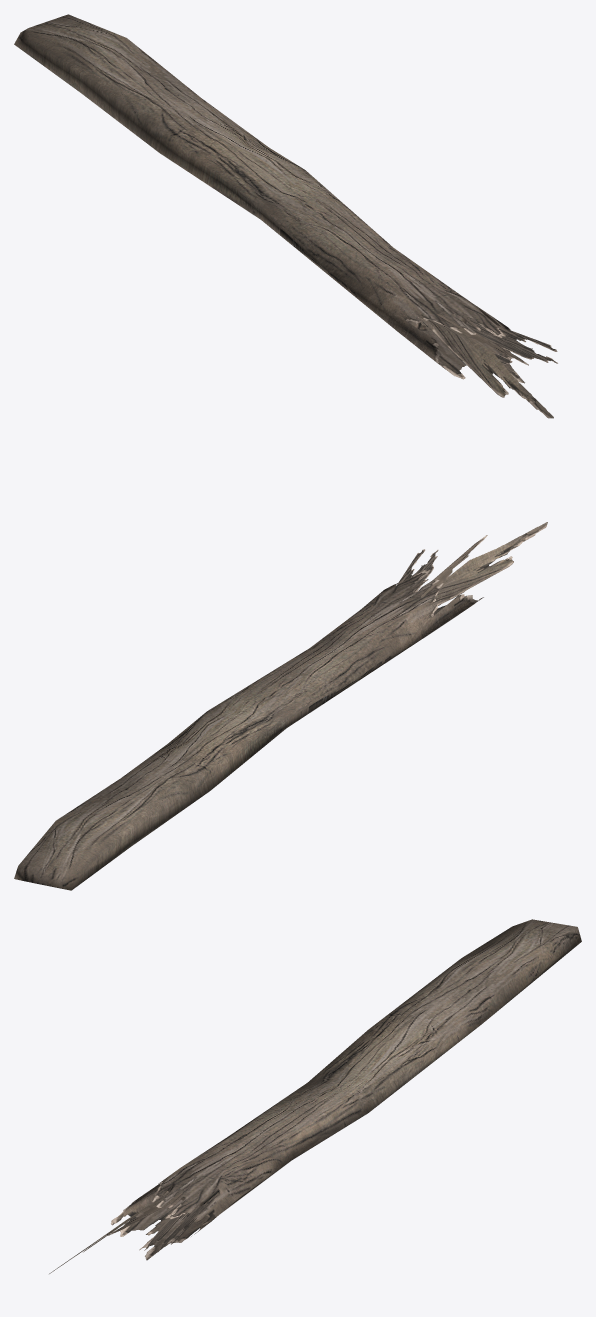
Rendered from WPlank_Splinted_03.fbx.
3 renders of one model, top to bottom at view 1: azimuth 30°, elevation 25°; view 2: azimuth 150°, elevation 25°; view 3: azimuth 330°, elevation 25°, orthographic. The views are drawn at different scales.
Visible parts, largest first — view 1: WPlank_splinted_03; view 2: WPlank_splinted_03; view 3: WPlank_splinted_03.
Boxes of the visible parts, <box> form: WPlank_splinted_03: <box>14,14,557,418</box>; WPlank_splinted_03: <box>14,522,547,890</box>; WPlank_splinted_03: <box>49,919,581,1273</box>.
Bounding box in the file's own units: 0.6937 × 0.349 × 6.31.
